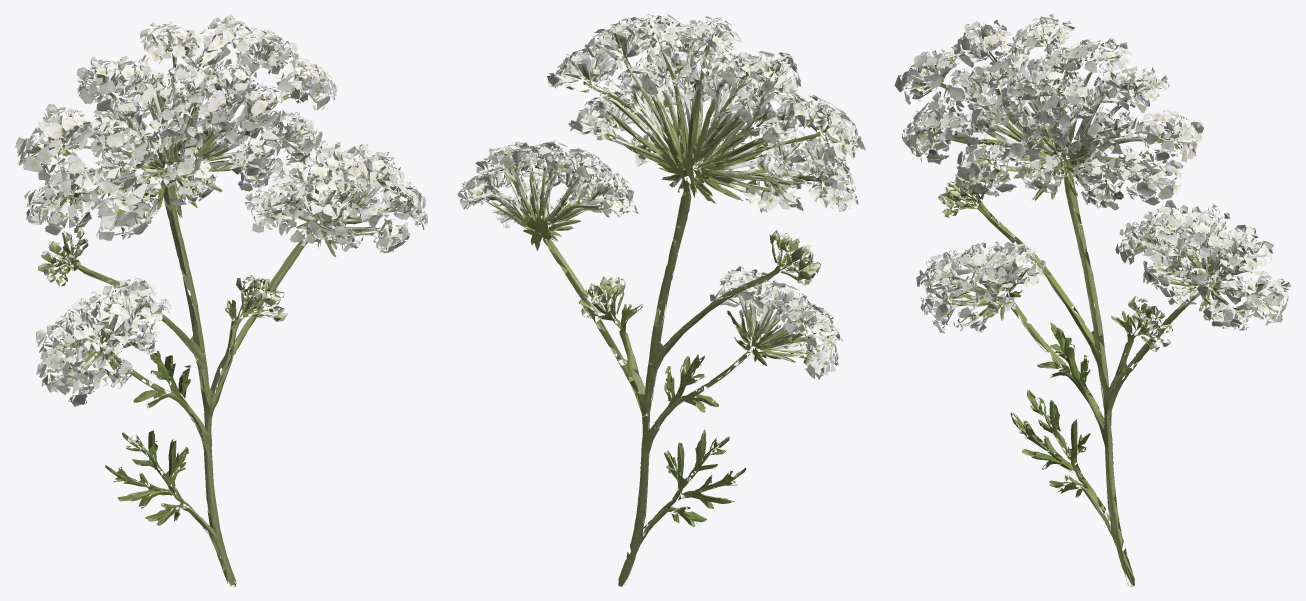
File: queenanne.glb
3 views of the same model, side by side, from view 1: azimuth 30°, elevation 25°; view 2: azimuth 150°, elevation 25°; view 3: azimuth 330°, elevation 25° (orthographic). The views are drawn at different scales.
Visible parts, largest first — view 1: queenanne; view 2: queenanne; view 3: queenanne.
Part boxes in pixels (x1=…): queenanne: x1=14, y1=14, x2=428, y2=586; queenanne: x1=457, y1=14, x2=865, y2=586; queenanne: x1=894, y1=14, x2=1290, y2=586.
Size of the model in its own units: 0.7238 by 1 by 0.1267.
Materials: 1 (1 with a texture image).
